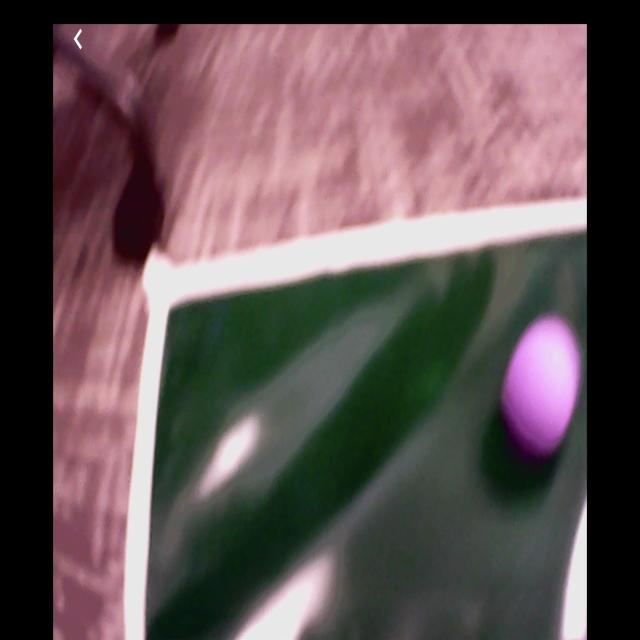ball: (506, 319, 579, 452)
